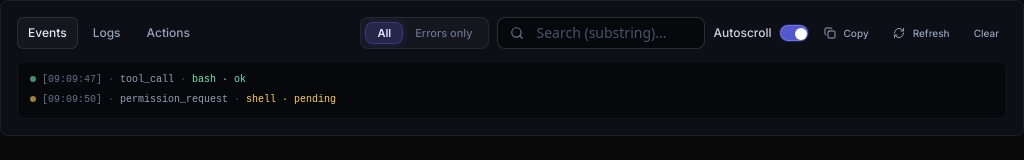
Test: DevboxConsole toolbar › copy button writes the visible events to the clipboard
Click the button with test id "devbox-console-copy" at point(846, 33), box [816,21,877,45]
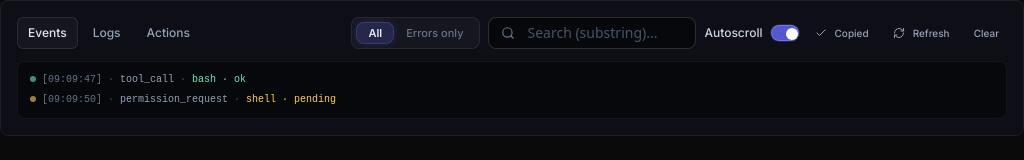
expect the button with test id "devbox-console-copy" reads "Copied": met, box [806,21,877,45]
